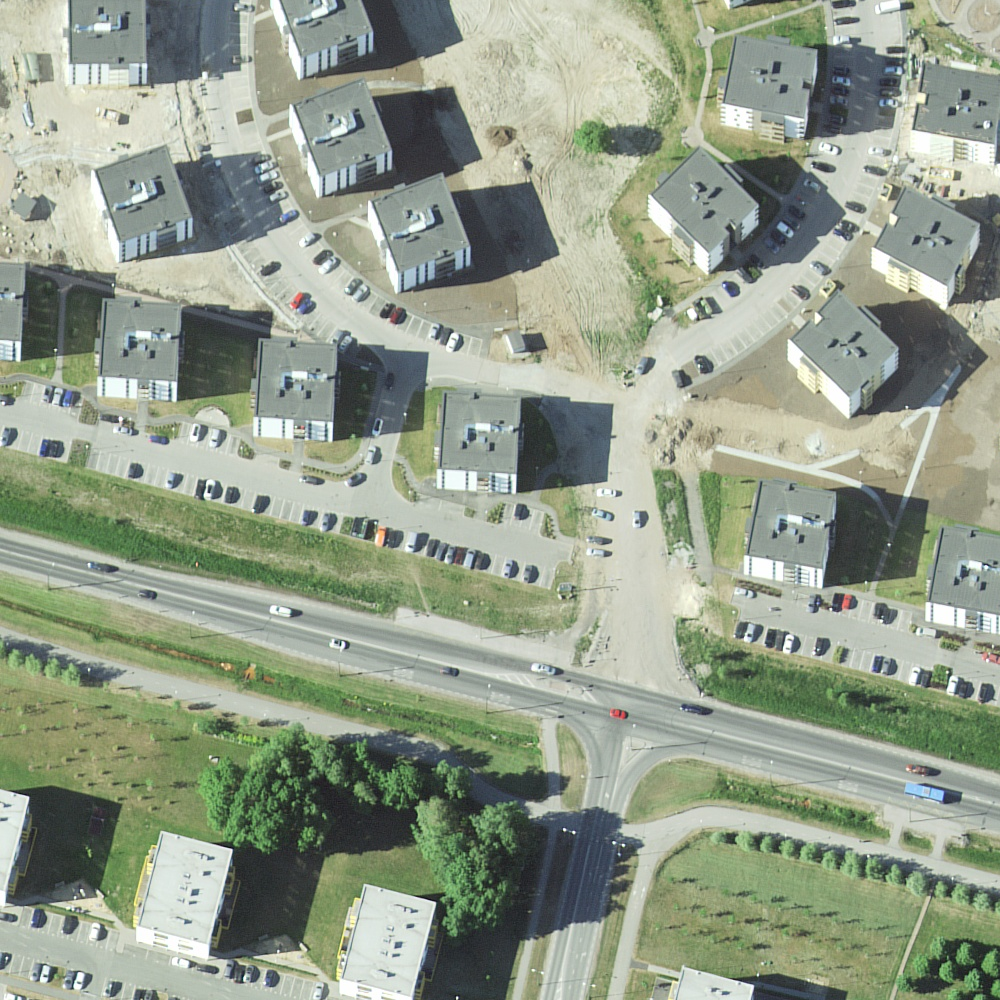building: (649, 147, 761, 255), (788, 290, 899, 398), (339, 885, 438, 996), (873, 186, 981, 287), (136, 832, 235, 942), (369, 173, 471, 275), (92, 144, 194, 244), (291, 78, 394, 177), (722, 37, 817, 121), (747, 482, 834, 568), (911, 64, 1000, 146), (439, 393, 523, 476), (254, 340, 337, 422), (100, 300, 183, 381), (927, 529, 1000, 615), (278, 1, 375, 59), (67, 1, 149, 65), (1, 790, 31, 893), (674, 966, 754, 1000), (1, 262, 28, 342), (10, 193, 38, 218), (508, 330, 525, 350)
